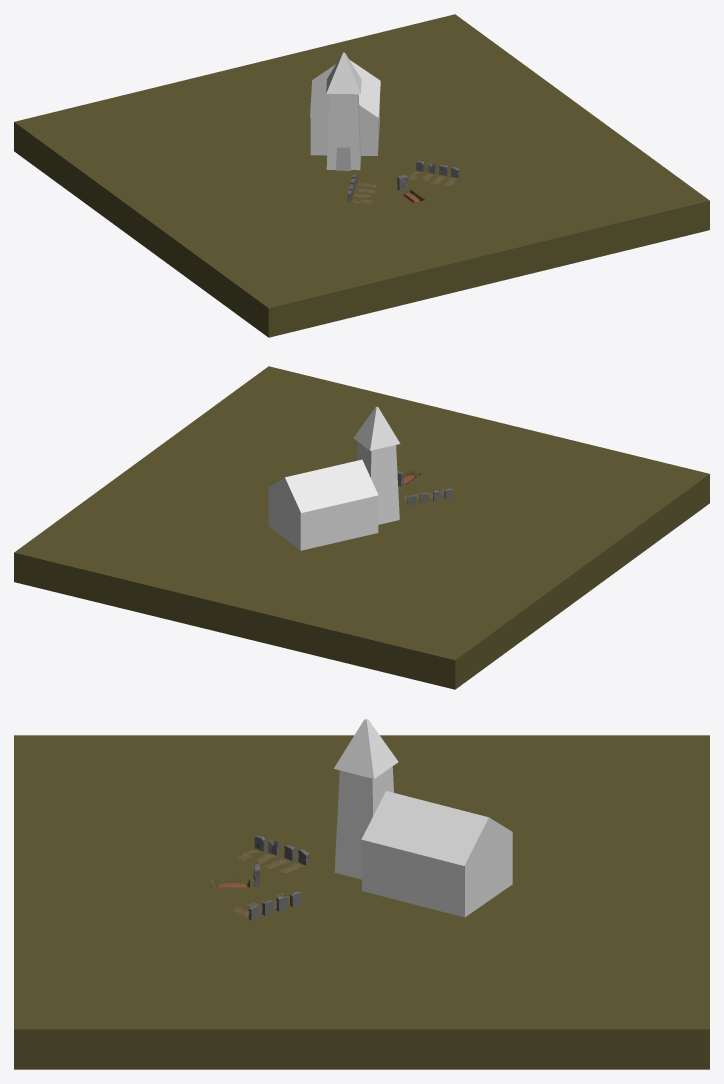
Rendered from grav.fbx.
3 views of the same model, one above another, from view 1: azimuth 30°, elevation 25°; view 2: azimuth 150°, elevation 25°; view 3: azimuth 270°, elevation 25° (orthographic). The views are drawn at different scales.
Visible parts, largest first — view 1: Plane, Cube, Roof2, Cube.002, Roof; view 2: Plane, Cube.002, Roof2, Cube, Roof; view 3: Plane, Cube.002, Roof2, Cube, Roof.
Part boxes in pixels (x1,y1,x2,y2): Plane: [14, 14, 709, 337]; Cube: [326, 94, 360, 170]; Roof2: [310, 59, 380, 117]; Cube.002: [310, 98, 379, 155]; Roof: [326, 52, 361, 94]; Plane: [14, 366, 709, 689]; Cube.002: [268, 488, 378, 550]; Roof2: [268, 459, 378, 512]; Cube: [357, 441, 399, 524]; Roof: [354, 406, 400, 450]; Plane: [14, 735, 709, 1069]; Cube.002: [362, 832, 512, 917]; Roof2: [361, 791, 512, 865]; Cube: [334, 766, 393, 879]; Roof: [334, 718, 398, 778].
Size of the model in its own units: 12117 by 3691 by 12117.
